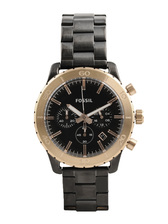watch: (31, 15, 144, 213)
